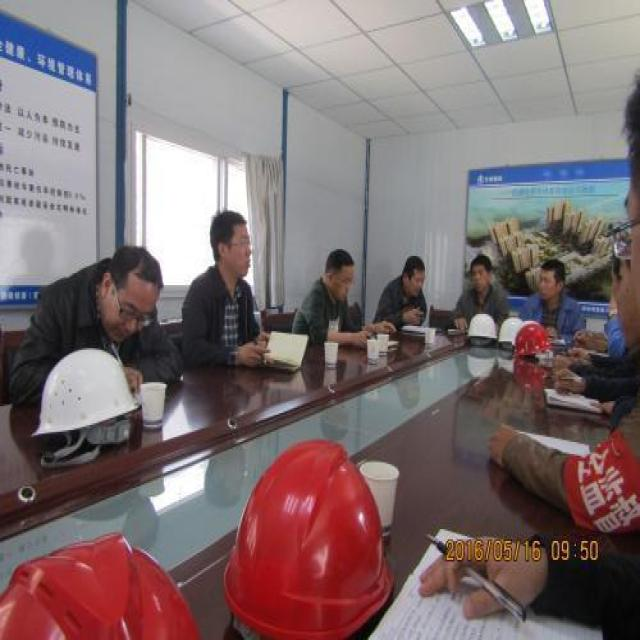no-helmet: (106, 239, 165, 333), (206, 207, 254, 285), (320, 246, 356, 302), (397, 246, 427, 304), (534, 256, 567, 302), (467, 251, 497, 295)
